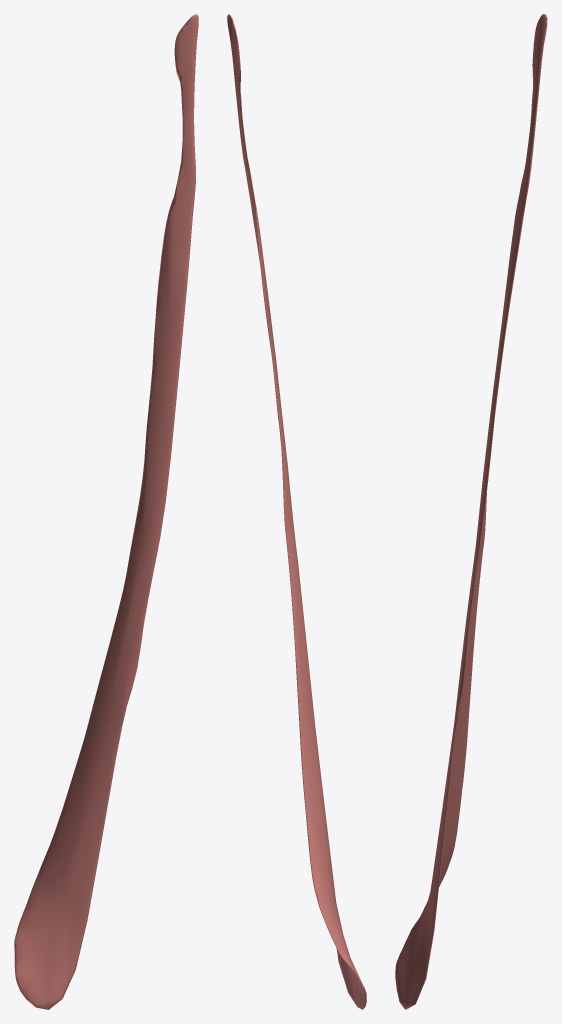
The picture shows the model from 3 angles, left to right: view 1: azimuth 30°, elevation 25°; view 2: azimuth 150°, elevation 25°; view 3: azimuth 330°, elevation 25°; orthographic projection. The views are drawn at different scales.
Visible parts, largest first — view 1: ZA_668a3fa5e9b46ae2; view 2: ZA_668a3fa5e9b46ae2; view 3: ZA_668a3fa5e9b46ae2.
Boxes of the visible parts, left/top/right/bottom form: ZA_668a3fa5e9b46ae2: left=14, top=14, right=198, bottom=1009; ZA_668a3fa5e9b46ae2: left=227, top=14, right=366, bottom=1009; ZA_668a3fa5e9b46ae2: left=395, top=14, right=547, bottom=1009.
Bounding box in the file's own units: 0.0572 × 0.3266 × 0.0285.
